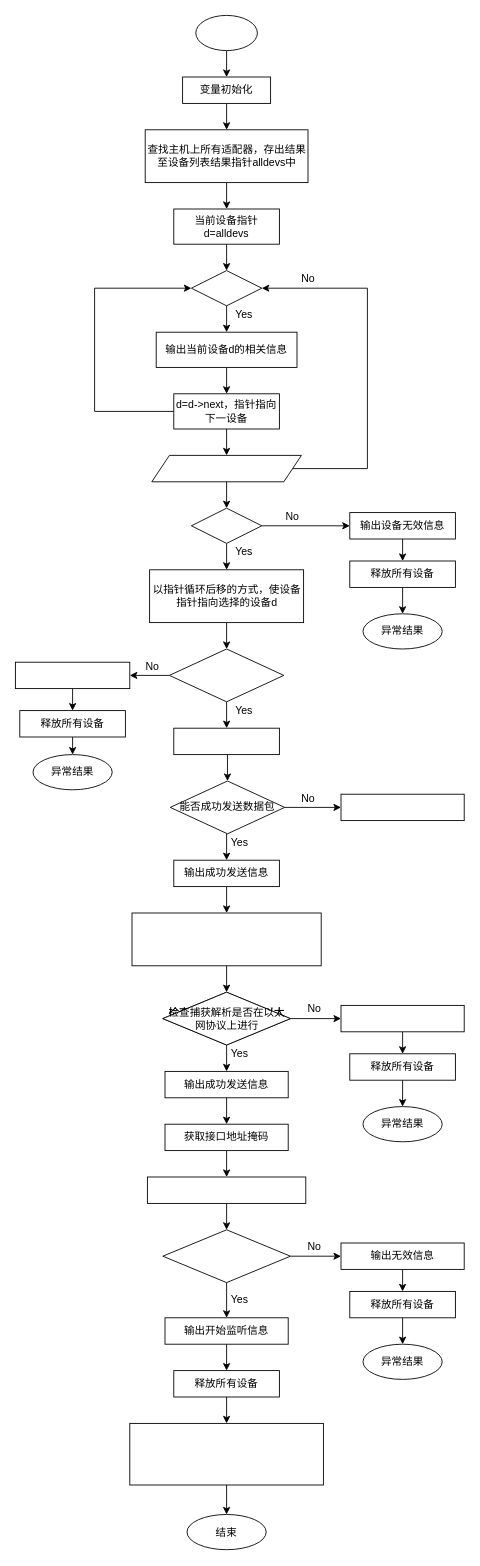
This 480x1566 diagram has some shape labels left out. Each missing label, with the box of its shape:
d!=NULL: (191, 270, 262, 306)
开始: (195, 15, 257, 51)
循环捕获tcp报文，解析数据包各个字段内容，包括地址、端口号、标志位等等，输出对应信息并写入记录文件: (129, 1423, 323, 1485)
数据包字符串编码: (173, 727, 279, 755)
能否正常打开该设备: (169, 648, 284, 702)
能否编译并设置过滤器: (162, 1229, 290, 1283)
解析数据包各个字段内容，包括地址、端口号、标志位等等，输出对应信息并写入记录文件: (131, 912, 321, 966)
设置报文过滤字段为 ip和tcp报文: (147, 1176, 306, 1203)
输入值有效: (191, 507, 262, 543)
输入希望进行交互的设备号: (151, 455, 301, 482)
输出协议无效信息: (340, 1005, 464, 1032)
输出打开设备失效信息: (15, 661, 130, 689)
输出数据包发送失败信息: (340, 793, 464, 821)
